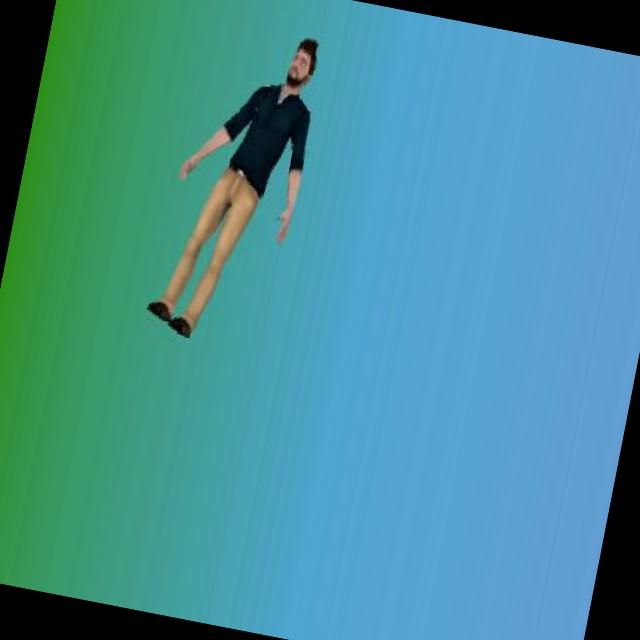Person: (138, 12, 332, 359)
